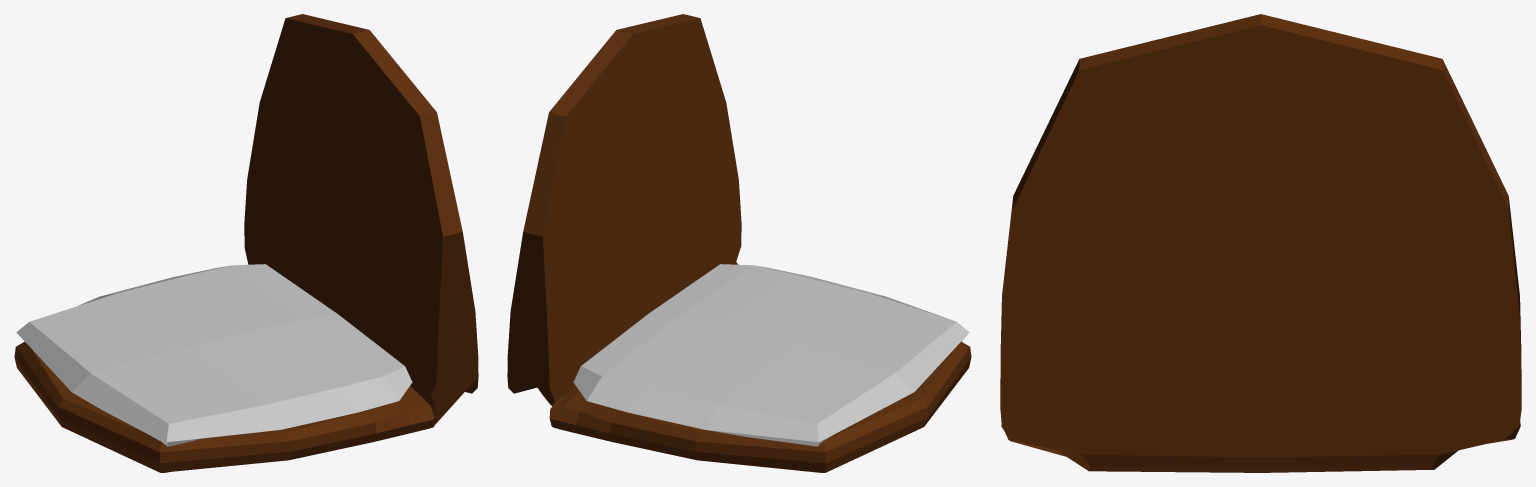
Rendered from chairOnFloor_dadami.fbx.
The picture shows the model from 3 angles, left to right: view 1: azimuth 30°, elevation 25°; view 2: azimuth 150°, elevation 25°; view 3: azimuth 270°, elevation 25°; orthographic projection. The views are drawn at different scales.
Visible parts, largest first — view 1: wood, cushion; view 2: wood, cushion; view 3: wood.
Boxes of the visible parts, <box> form: wood: <box>14,14,478,472</box>; cushion: <box>16,264,412,446</box>; wood: <box>507,14,971,472</box>; cushion: <box>573,264,969,446</box>; wood: <box>1000,14,1521,472</box>.
Size of the model in its own units: 194 by 190 by 200.
